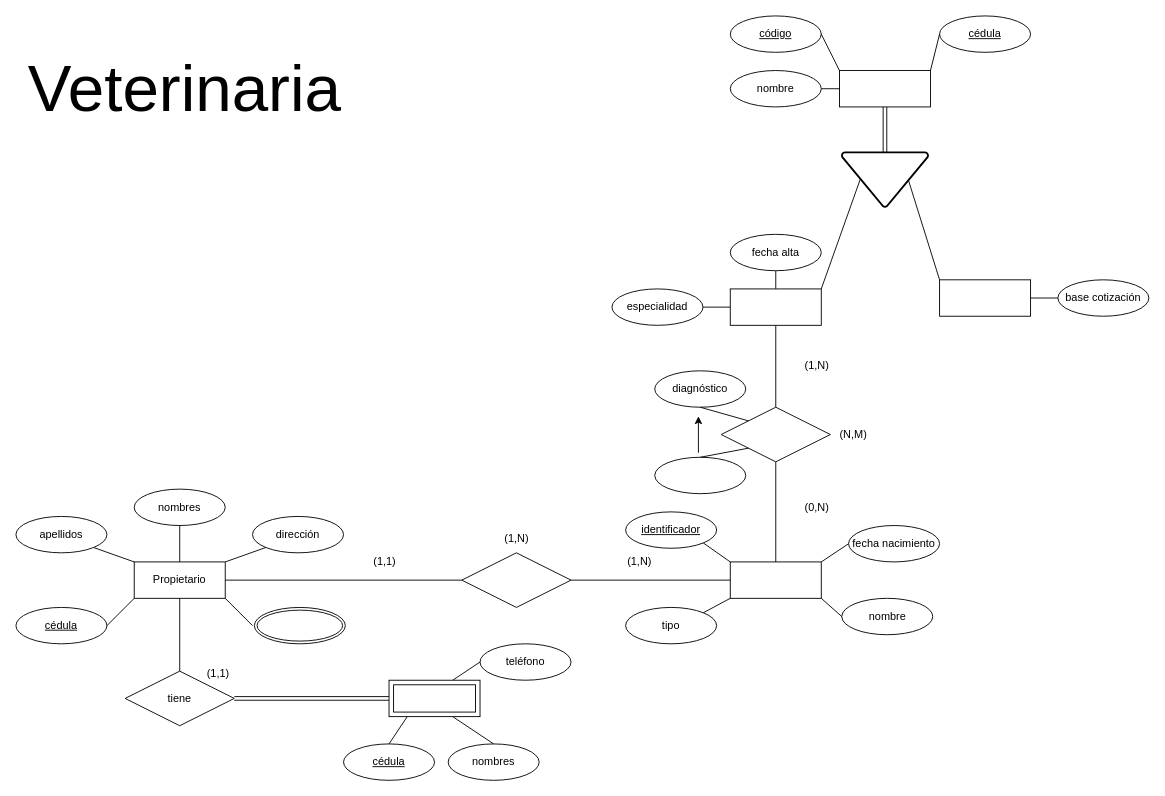
The diagram is 1165 pixels wide and 796 high, and some of its shapes have lost their labels. Each missing label, with the centre of its shape:
"Auxiliar" belongs at (x=985, y=297).
"Familiar Contacto" belongs at (x=434, y=698).
"fecha" belongs at (x=700, y=475).
"llevar" belongs at (x=516, y=579).
"Mascota" belongs at (x=775, y=579).
"pasa consulta" belongs at (x=775, y=434).
"Personal" belongs at (x=884, y=88).
"telefonos" belongs at (x=299, y=625).
"Veterinario" belongs at (x=775, y=306).
